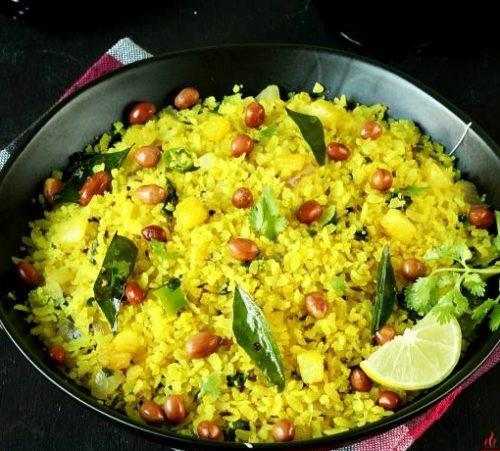Poha: (10, 80, 500, 445)
